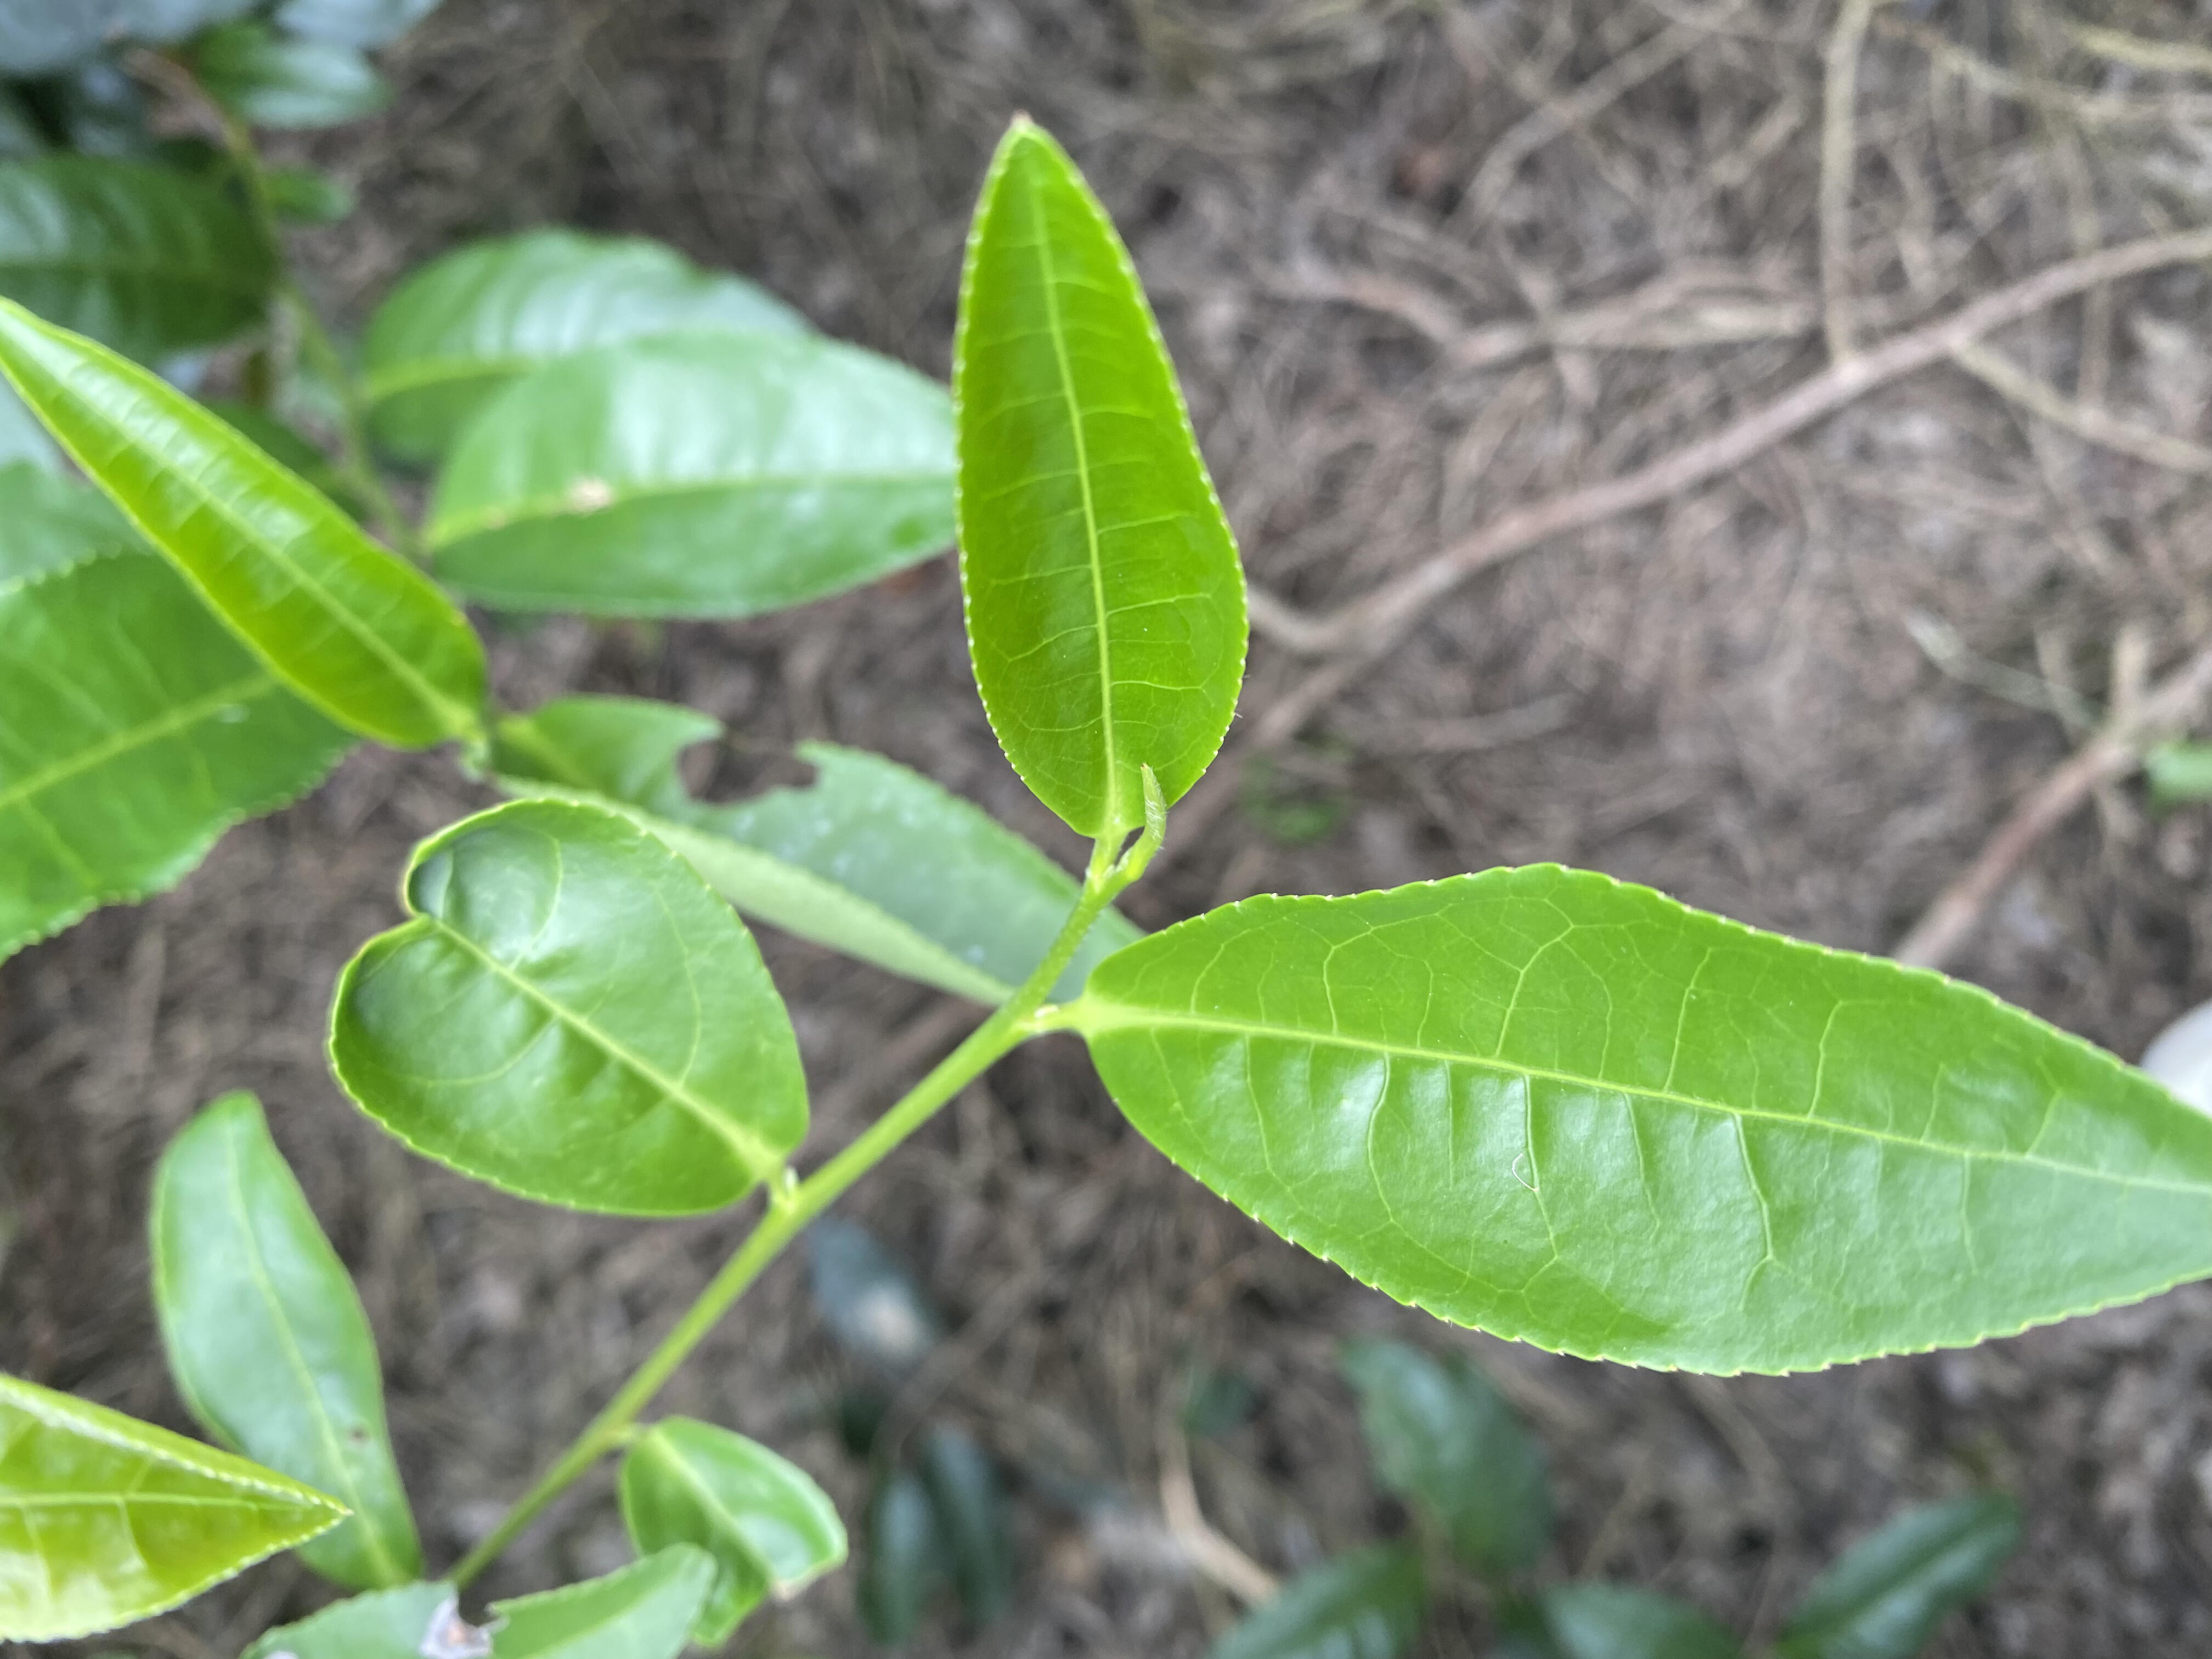healthy: (1083, 859, 2207, 1377), (2, 300, 486, 749), (949, 125, 1251, 845)
